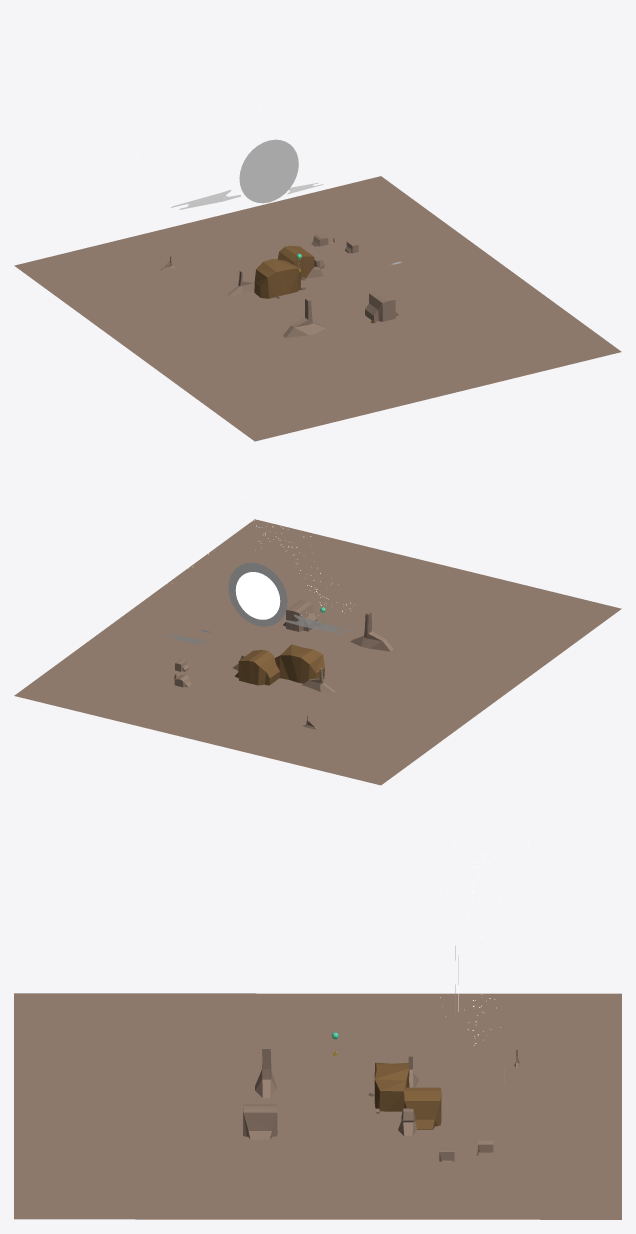
The model's file is test-environment.fbx.
3 views of the same model, one above another, from view 1: azimuth 30°, elevation 25°; view 2: azimuth 150°, elevation 25°; view 3: azimuth 270°, elevation 25° (orthographic). The views are drawn at different scales.
Visible parts, largest first — view 1: Plane, Circle.000, 1, 5, 2, 4; view 2: Plane, Circle.001, 1, Circle.000, 2, 5, 4, Plane.004; view 3: Plane, 1, 2, 5, 4.
Part boxes in pixels (x1,y1,x2,y2): Plane: (14, 176, 621, 441); Circle.000: (239, 139, 298, 203); 1: (254, 259, 300, 298); 5: (365, 290, 398, 321); 2: (277, 245, 314, 278); 4: (283, 298, 325, 337); Plane: (14, 519, 621, 785); Circle.001: (235, 572, 280, 619); 1: (274, 644, 324, 683); Circle.000: (228, 562, 287, 626); 2: (235, 650, 279, 685); 5: (283, 600, 317, 631); 4: (350, 612, 393, 651); Plane.004: (284, 614, 354, 634); Plane: (14, 993, 621, 1219); 1: (374, 1062, 409, 1111); 2: (404, 1087, 441, 1129); 5: (243, 1104, 277, 1139); 4: (255, 1047, 276, 1098).
Bounding box in the file's own units: 3297 × 2055 × 3747.
